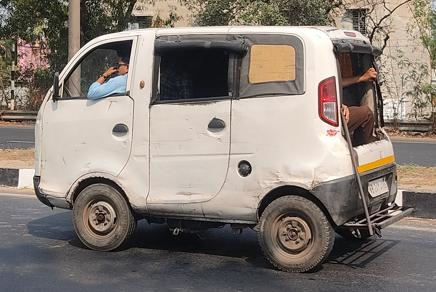Auto: (33, 25, 404, 277)
